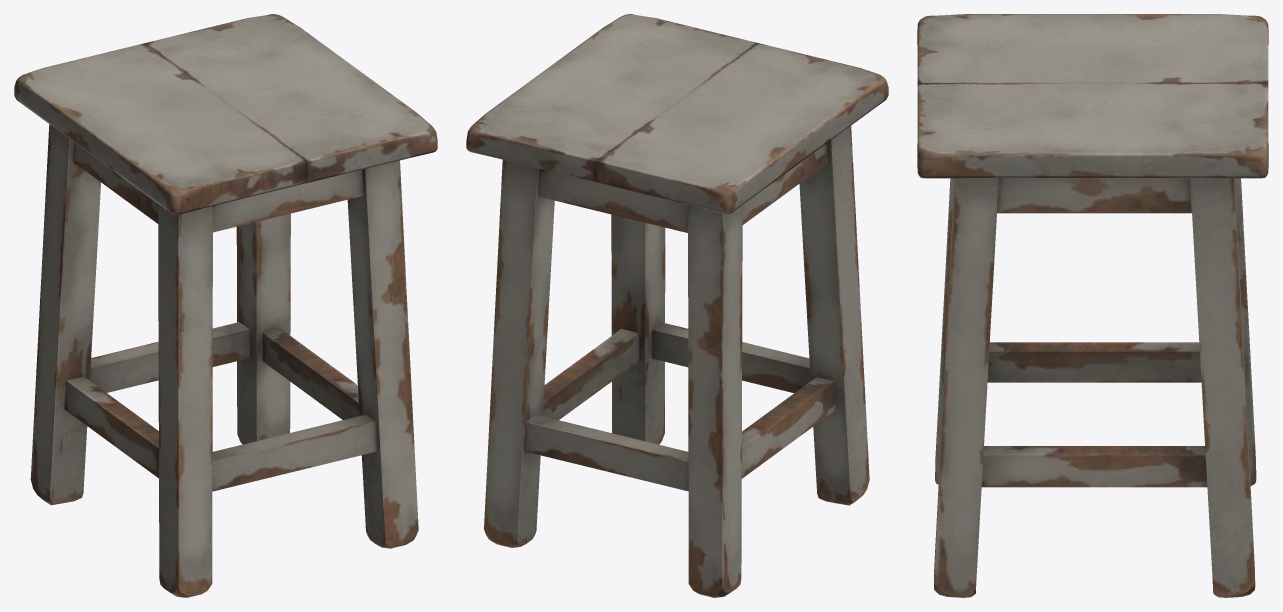
File: painted_wooden_stool.glb
3 views of the same model, side by side, from view 1: azimuth 30°, elevation 25°; view 2: azimuth 150°, elevation 25°; view 3: azimuth 270°, elevation 25° (orthographic). The views are drawn at different scales.
Visible parts, largest first — view 1: painted_wooden_stool; view 2: painted_wooden_stool; view 3: painted_wooden_stool.
Part boxes in pixels (box(x1,y1,x2,y2)): painted_wooden_stool: box(14, 14, 437, 597); painted_wooden_stool: box(466, 14, 888, 597); painted_wooden_stool: box(917, 14, 1268, 597).
Bounding box in the file's own units: 0.3848 × 0.5789 × 0.406.
Materials: 1 (1 with a texture image).
